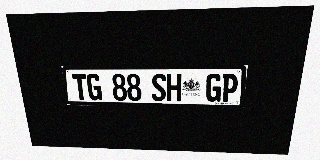8: (111, 74, 127, 101), (126, 74, 142, 101)
G: (205, 74, 222, 102), (86, 74, 102, 100)
H: (167, 74, 182, 101)
P: (221, 74, 239, 102)
S: (151, 74, 166, 101)
T: (72, 74, 88, 100)
